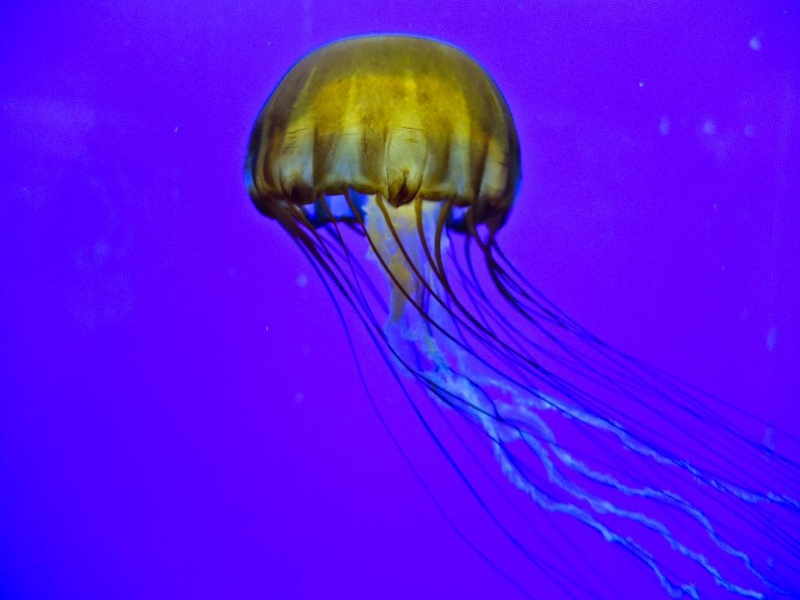Jellyfish: (238, 26, 799, 599)
